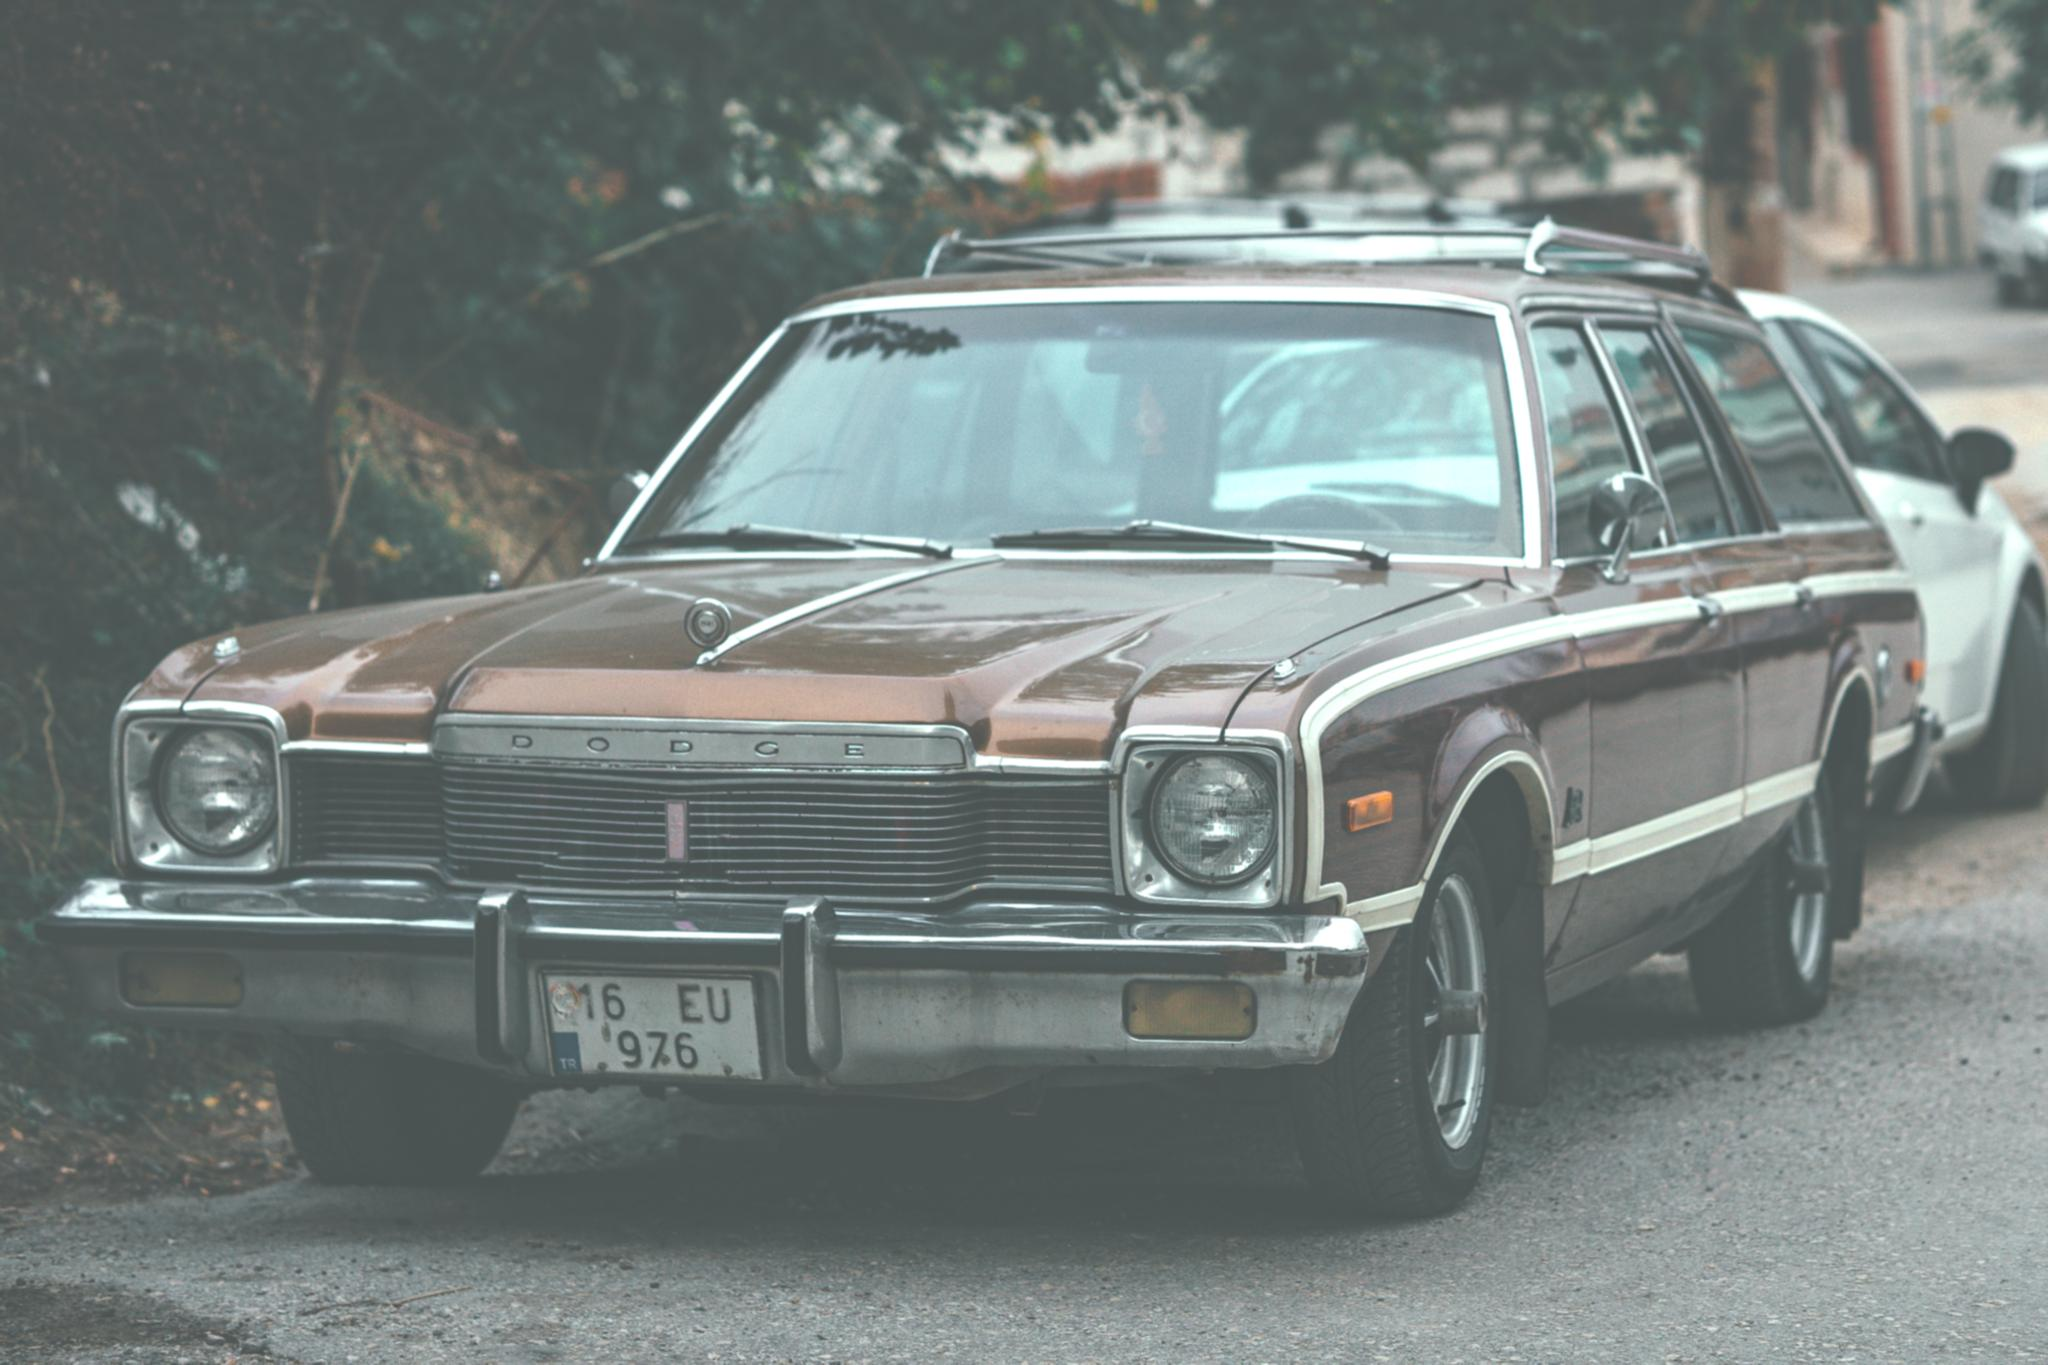dodge: (489, 719, 900, 777)
